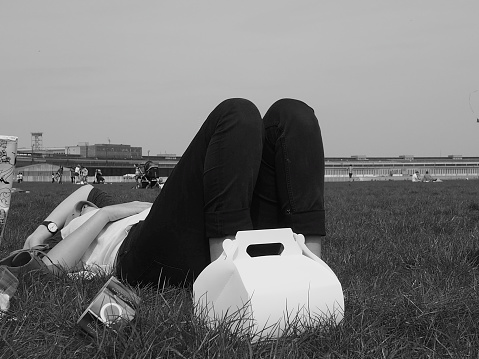deitado: (0, 93, 324, 310)
